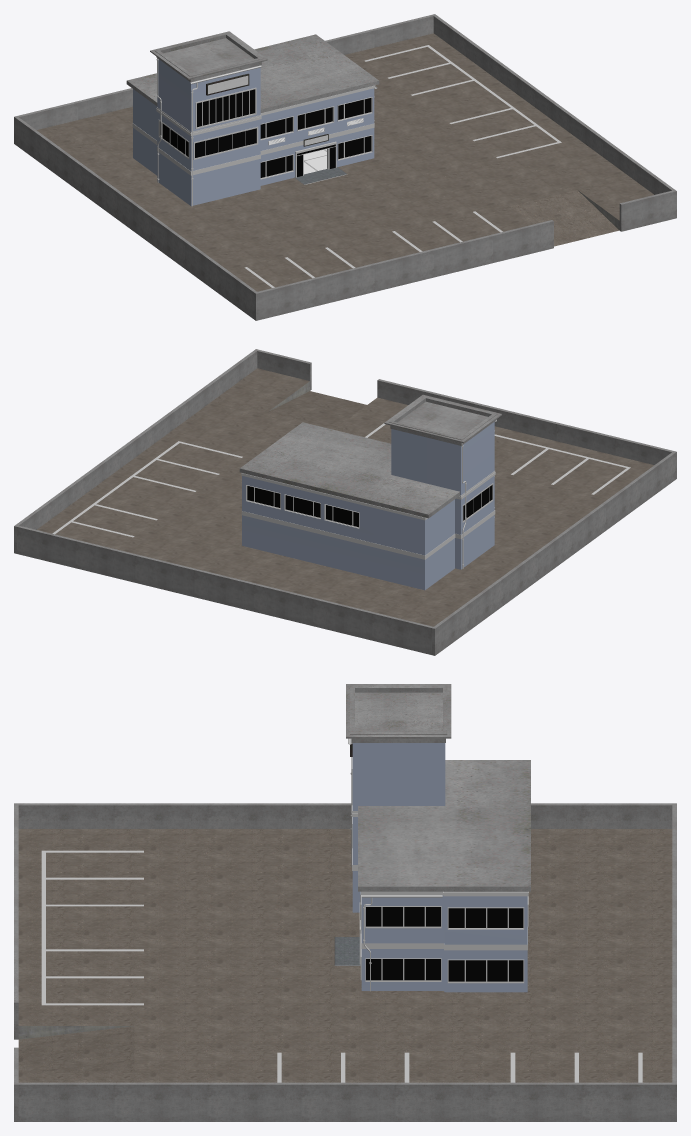
The picture shows the model from 3 angles, top to bottom: view 1: azimuth 30°, elevation 25°; view 2: azimuth 150°, elevation 25°; view 3: azimuth 270°, elevation 25°; orthographic projection. The views are drawn at different scales.
Visible parts, largest first — view 1: parking, Police_Station_mesh, SM_parkinglot_01__1_, SM_parkinglot_01; view 2: parking, Police_Station_mesh, SM_parkinglot_01, SM_parkinglot_01_1, SM_parkinglot_01__1_; view 3: parking, Police_Station_mesh, SM_parkinglot_01_1, SM_parkinglot_01__1__1.
Part boxes in pixels (<box>): parking: <box>14,14,676,320</box>; Police_Station_mesh: <box>126,31,379,206</box>; SM_parkinglot_01__1_: <box>364,45,495,95</box>; SM_parkinglot_01: <box>449,94,561,158</box>; parking: <box>14,349,676,655</box>; Police_Station_mesh: <box>239,394,501,590</box>; SM_parkinglot_01: <box>112,441,242,491</box>; SM_parkinglot_01_1: <box>511,439,630,494</box>; SM_parkinglot_01__1_: <box>52,490,157,537</box>; parking: <box>14,803,676,1121</box>; Police_Station_mesh: <box>334,684,530,992</box>; SM_parkinglot_01_1: <box>41,850,143,927</box>; SM_parkinglot_01__1__1: <box>41,928,143,1005</box>.
Size of the model in its own units: 94.3 by 30.16 by 93.89.
